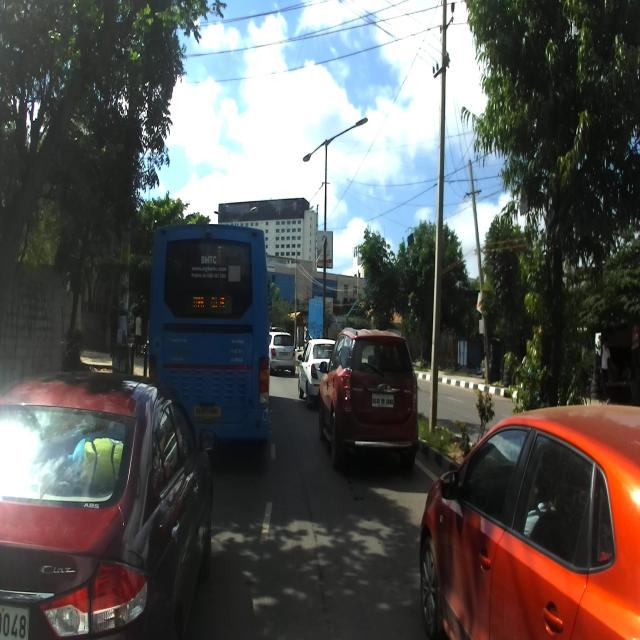Car_Mahindra: (318, 328, 420, 469)
Car_Maruti-Suzuki: (0, 373, 216, 640)
Car_Skoda: (270, 327, 296, 378)
Car_TATA: (297, 338, 337, 409)
Car_Volkswagen: (419, 406, 639, 640)
bus: (147, 222, 271, 451)
